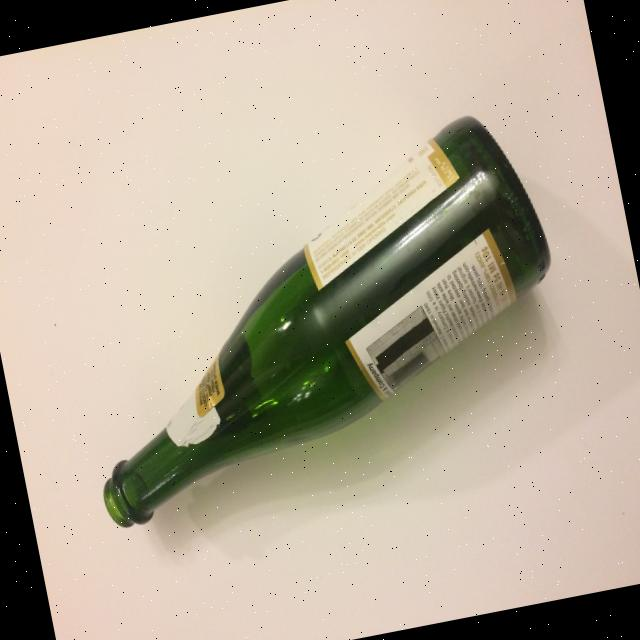glass: (45, 104, 587, 532)
